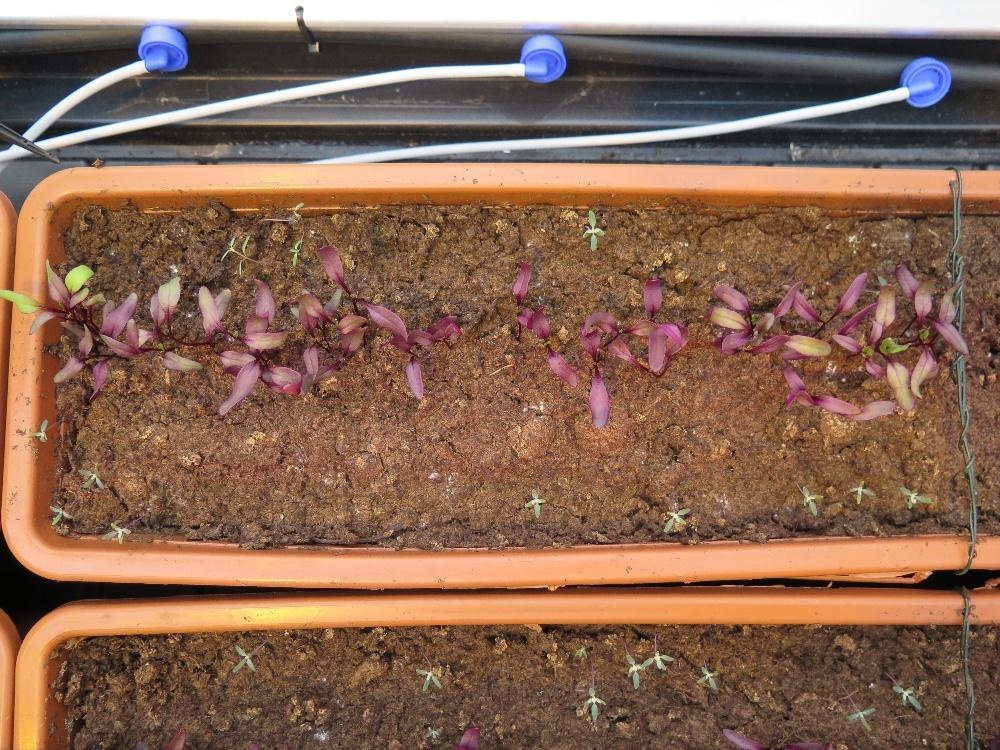weed: (580, 207, 606, 252), (581, 684, 606, 723), (897, 483, 932, 509), (842, 705, 875, 732), (890, 683, 921, 710), (75, 462, 104, 490), (522, 486, 546, 518), (799, 483, 823, 515), (662, 506, 690, 533), (847, 477, 873, 506), (99, 520, 130, 544), (231, 643, 254, 674), (413, 666, 440, 692), (695, 663, 719, 691), (46, 503, 73, 526), (24, 417, 47, 442), (218, 233, 236, 262), (288, 236, 302, 268)
